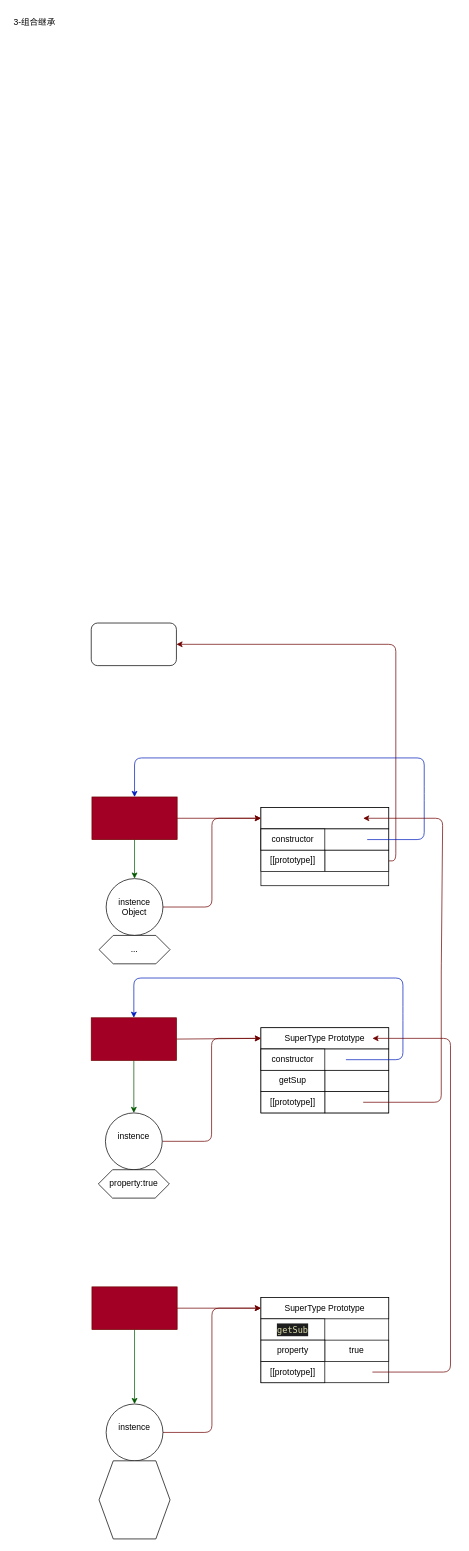
This 469x1551 diagram has some shape labels left out. Here are the shapes that lost their labels. From the top down, the centre of each, then its label:
At point 133,644: "null".
At point 134,818: "Object".
At point 324,818: "Object Prototype".
At point 133,1038: "SuperType".
At point 134,1307: "SubType".
At point 134,1499: "subProperty:true friends:[1,2]".
